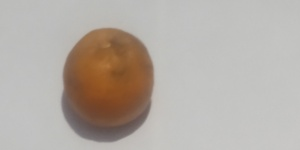BAD: (61, 27, 154, 131)
